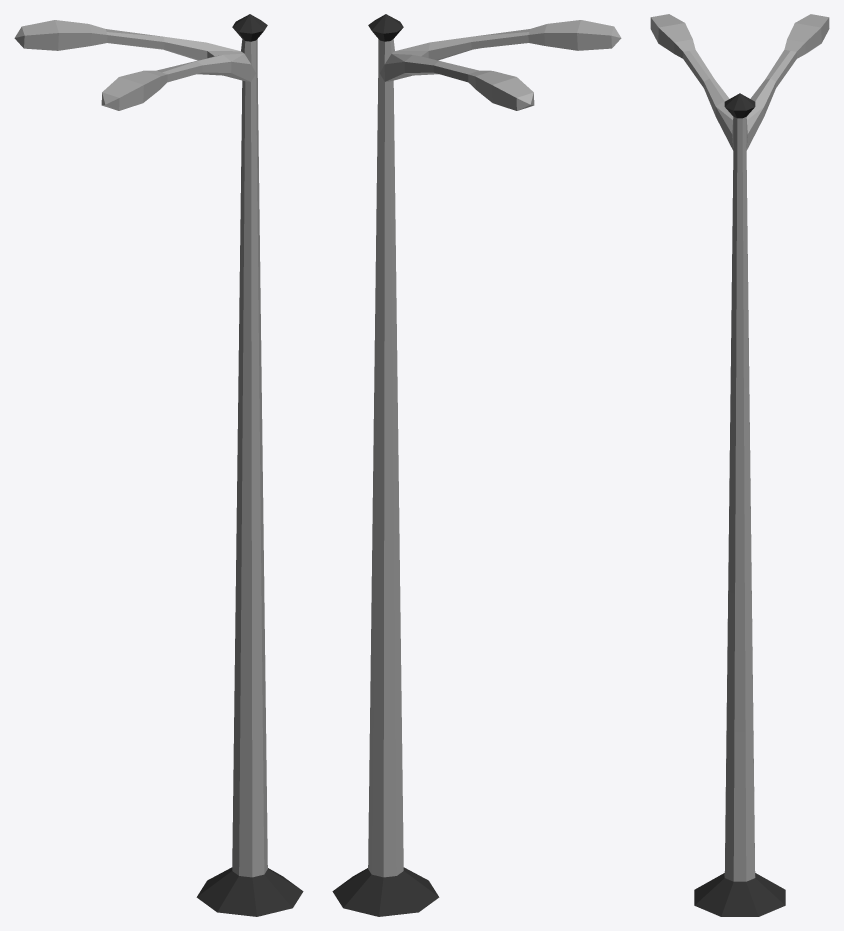
File: ETC0510021.fbx
3 renders of one model, left to right at view 1: azimuth 30°, elevation 25°; view 2: azimuth 150°, elevation 25°; view 3: azimuth 270°, elevation 25°, orthographic. The views are drawn at different scales.
Visible parts, largest first — view 1: smETC0510021; view 2: smETC0510021; view 3: smETC0510021.
Part boxes in pixels (left/top/right/bottom): smETC0510021: left=14, top=14, right=303, bottom=916; smETC0510021: left=332, top=14, right=621, bottom=916; smETC0510021: left=650, top=14, right=829, bottom=916.
Bounding box in the file's own units: 359 × 1296 × 261.
Materials: 1 (1 with a texture image).
